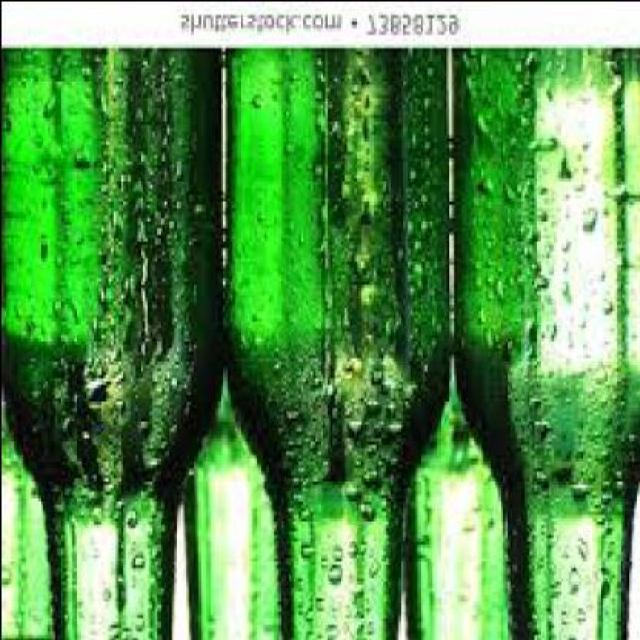GLASS: (220, 49, 446, 638), (2, 51, 220, 638), (450, 49, 638, 638)
